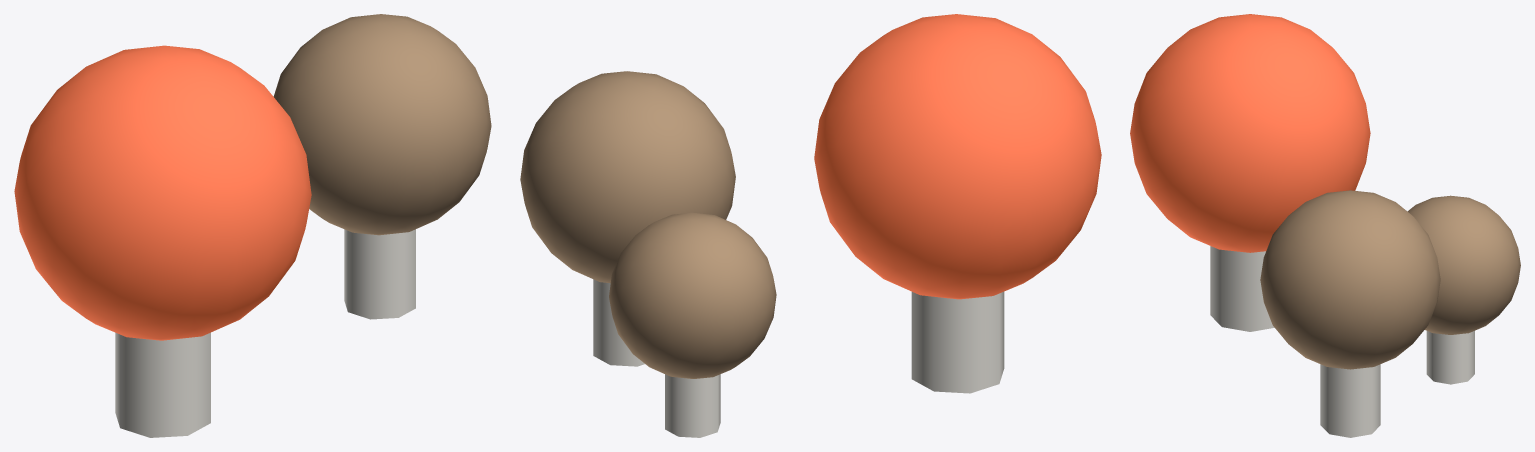
The model's file is mushrooms.glb.
3 views of the same model, side by side, from view 1: azimuth 30°, elevation 25°; view 2: azimuth 150°, elevation 25°; view 3: azimuth 270°, elevation 25° (orthographic). The views are drawn at different scales.
Parts seen in each view (by area): view 1: cap_1, cap_2, stem_1, stem_2; view 2: cap_1, cap_2, cap_3, stem_1, stem_3, stem_2; view 3: cap_1, cap_2, cap_3, stem_1, stem_2, stem_3.
Boxes of the visible parts, left/top/right/bottom form: cap_1: left=14, top=45, right=311, bottom=340; cap_2: left=273, top=14, right=491, bottom=235; stem_1: left=115, top=332, right=210, bottom=437; stem_2: left=344, top=229, right=415, bottom=319; cap_1: left=814, top=14, right=1101, bottom=299; cap_2: left=520, top=71, right=735, bottom=283; cap_3: left=609, top=212, right=776, bottom=378; stem_1: left=911, top=291, right=1004, bottom=393; stem_3: left=665, top=374, right=720, bottom=437; stem_2: left=593, top=279, right=644, bottom=366; cap_1: left=1130, top=14, right=1370, bottom=252; cap_2: left=1260, top=190, right=1440, bottom=369; cap_3: left=1407, top=195, right=1520, bottom=334; stem_1: left=1210, top=246, right=1274, bottom=331; stem_2: left=1320, top=364, right=1380, bottom=437; stem_3: left=1426, top=331, right=1474, bottom=384.
Size of the model in its own units: 0.235 by 0.16 by 0.195.
